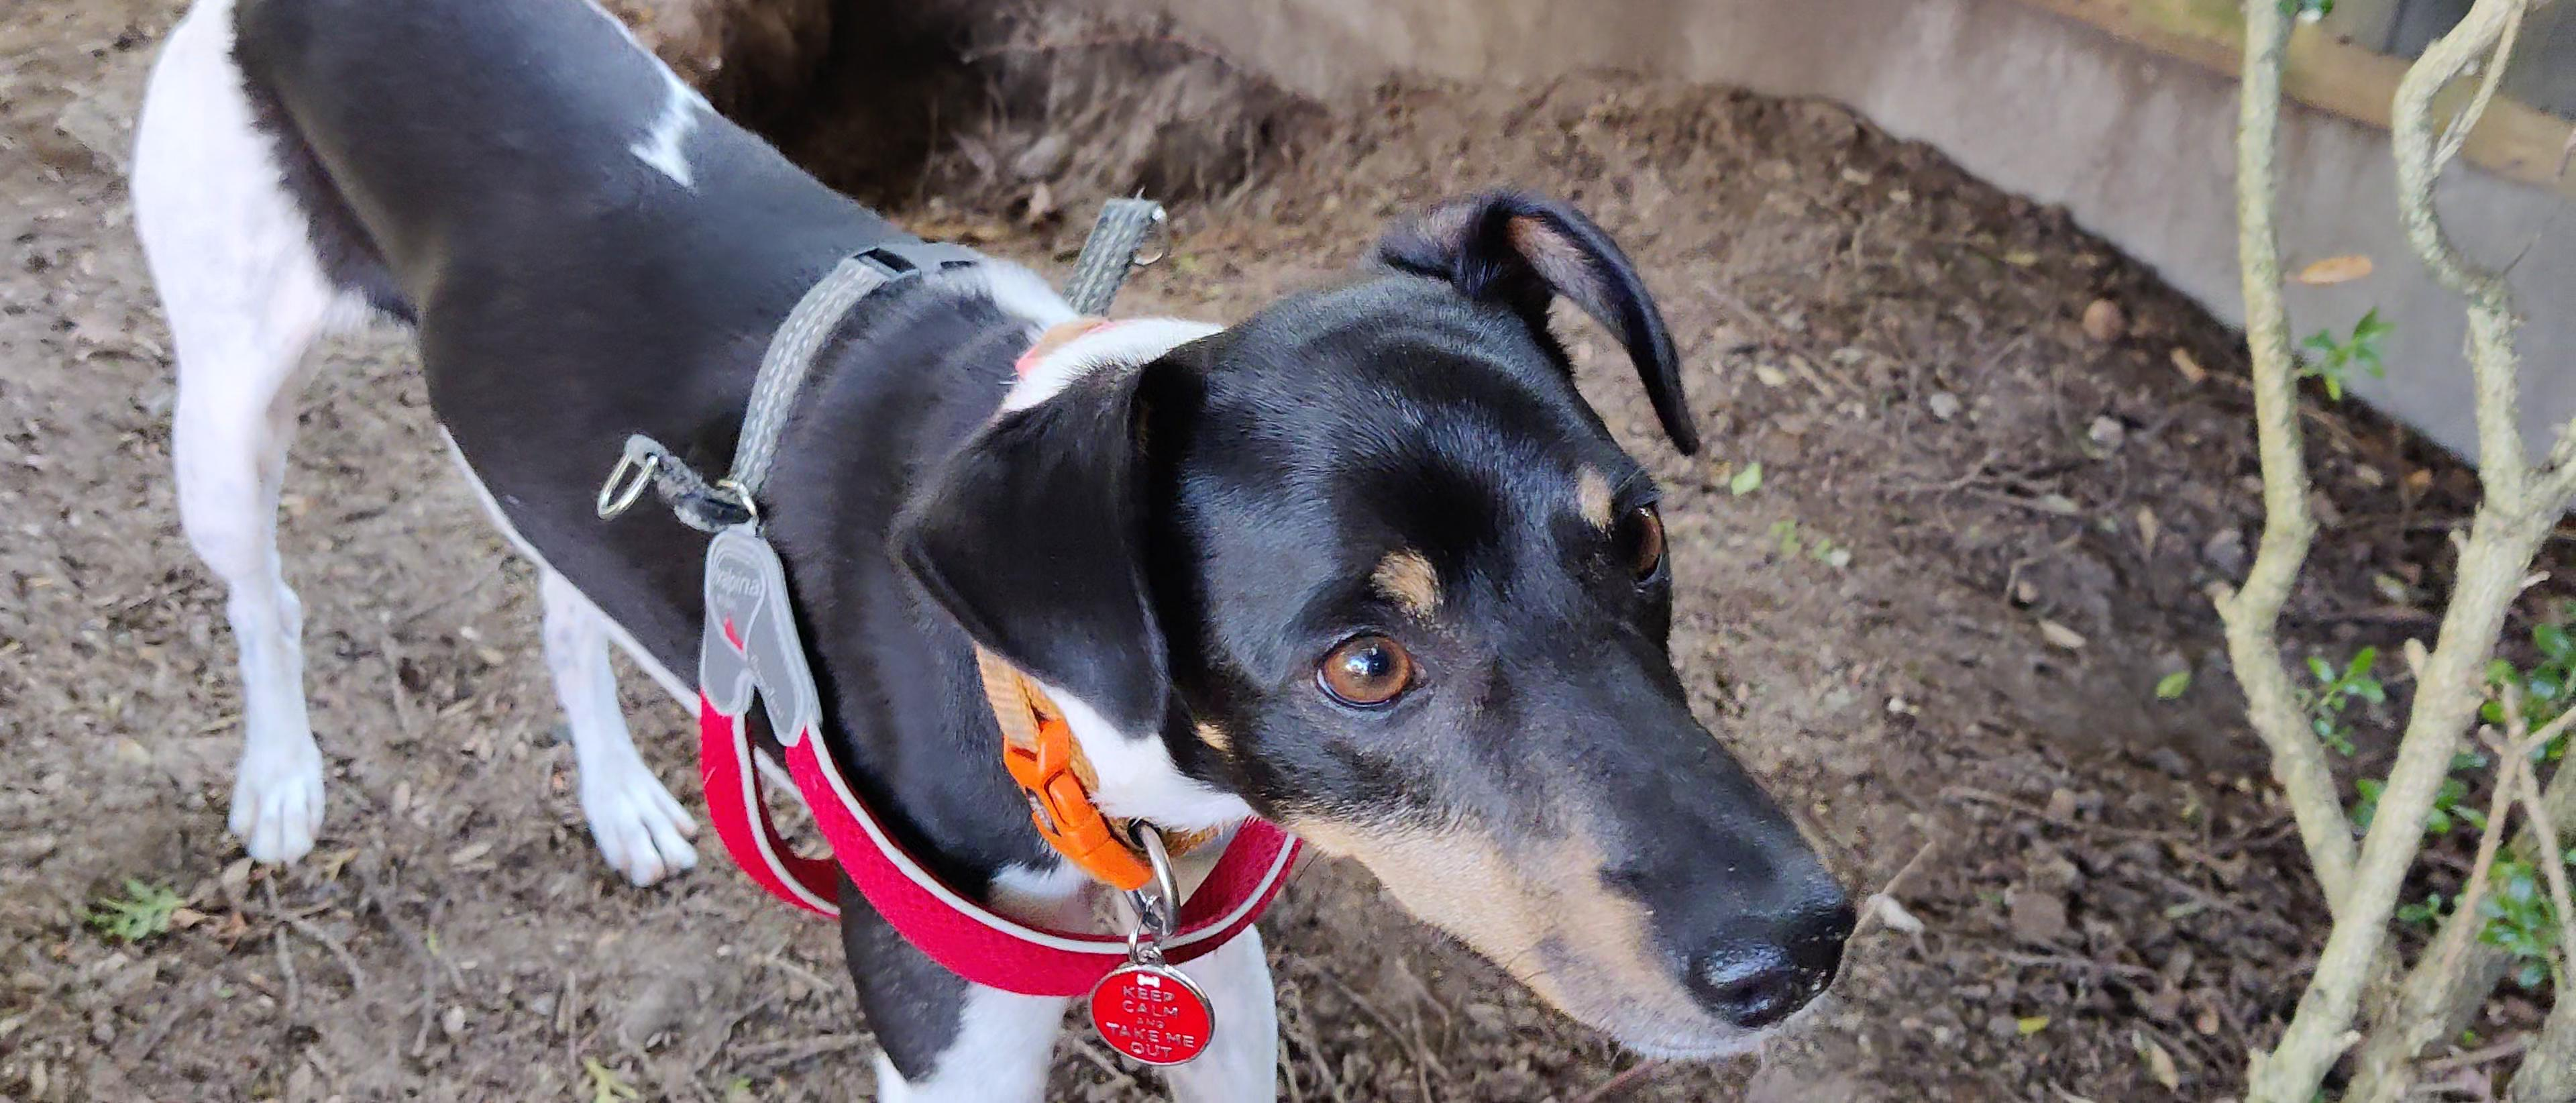Dog: (92, 0, 1914, 1103)
